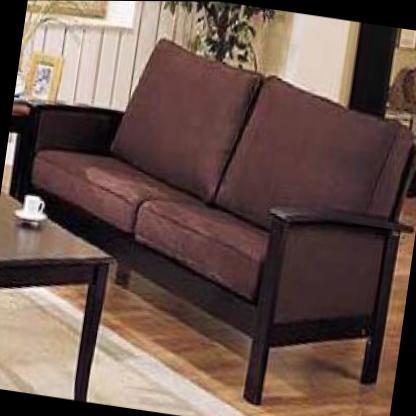Sofa: (0, 18, 416, 416)
Table: (0, 187, 119, 403)
